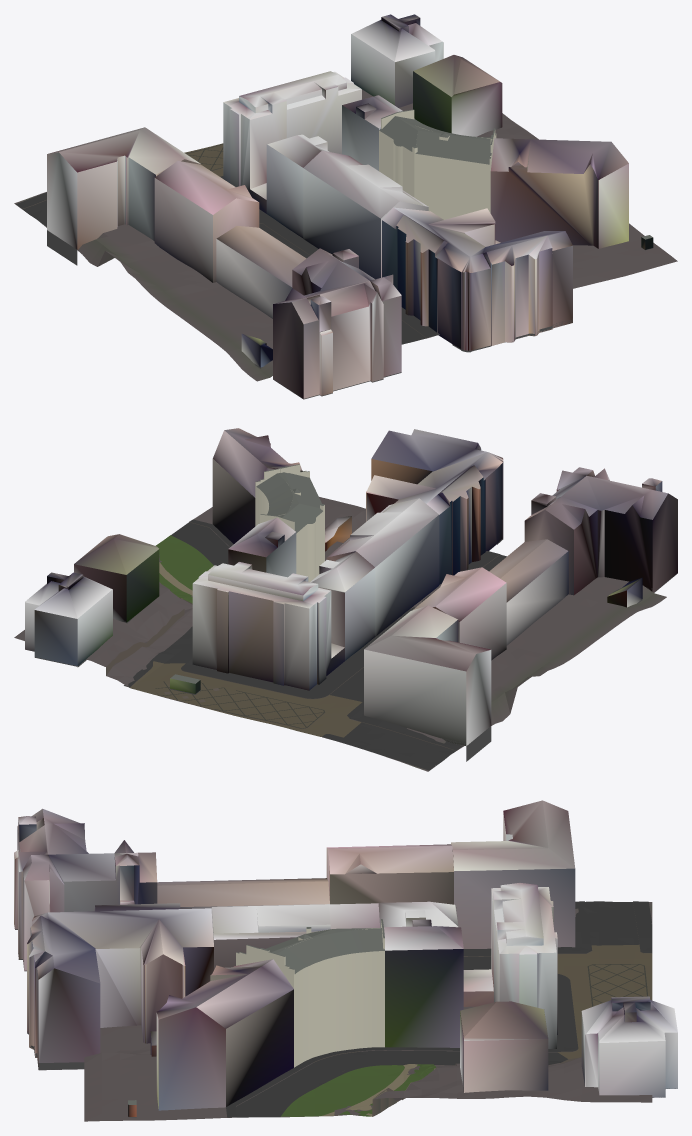
3 renders of one model, top to bottom at view 1: azimuth 30°, elevation 25°; view 2: azimuth 150°, elevation 25°; view 3: azimuth 270°, elevation 25°, orthographic. The views are drawn at different scales.
Visible parts, largest first — view 1: c_p00_m14; view 2: c_p00_m14; view 3: c_p00_m14.
Boxes of the visible parts, <box> form: c_p00_m14: <box>14,14,677,399</box>; c_p00_m14: <box>14,428,677,771</box>; c_p00_m14: <box>14,800,677,1121</box>.
Bounding box in the file's own units: 129 × 36.96 × 150.
